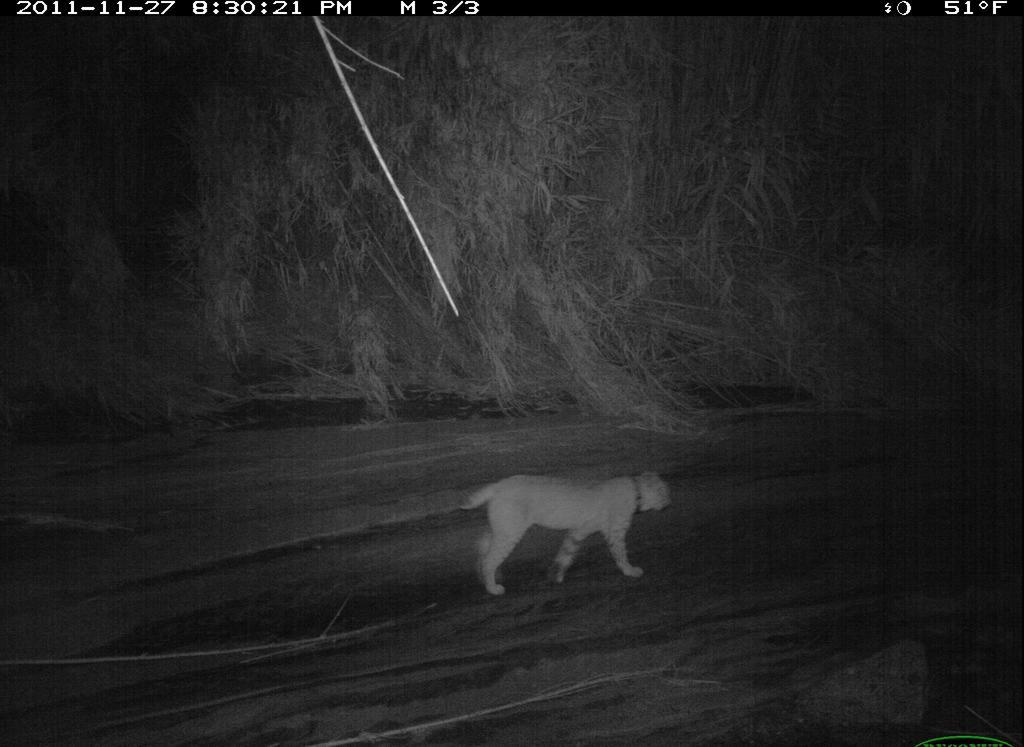bobcat: (455, 465, 679, 606)
